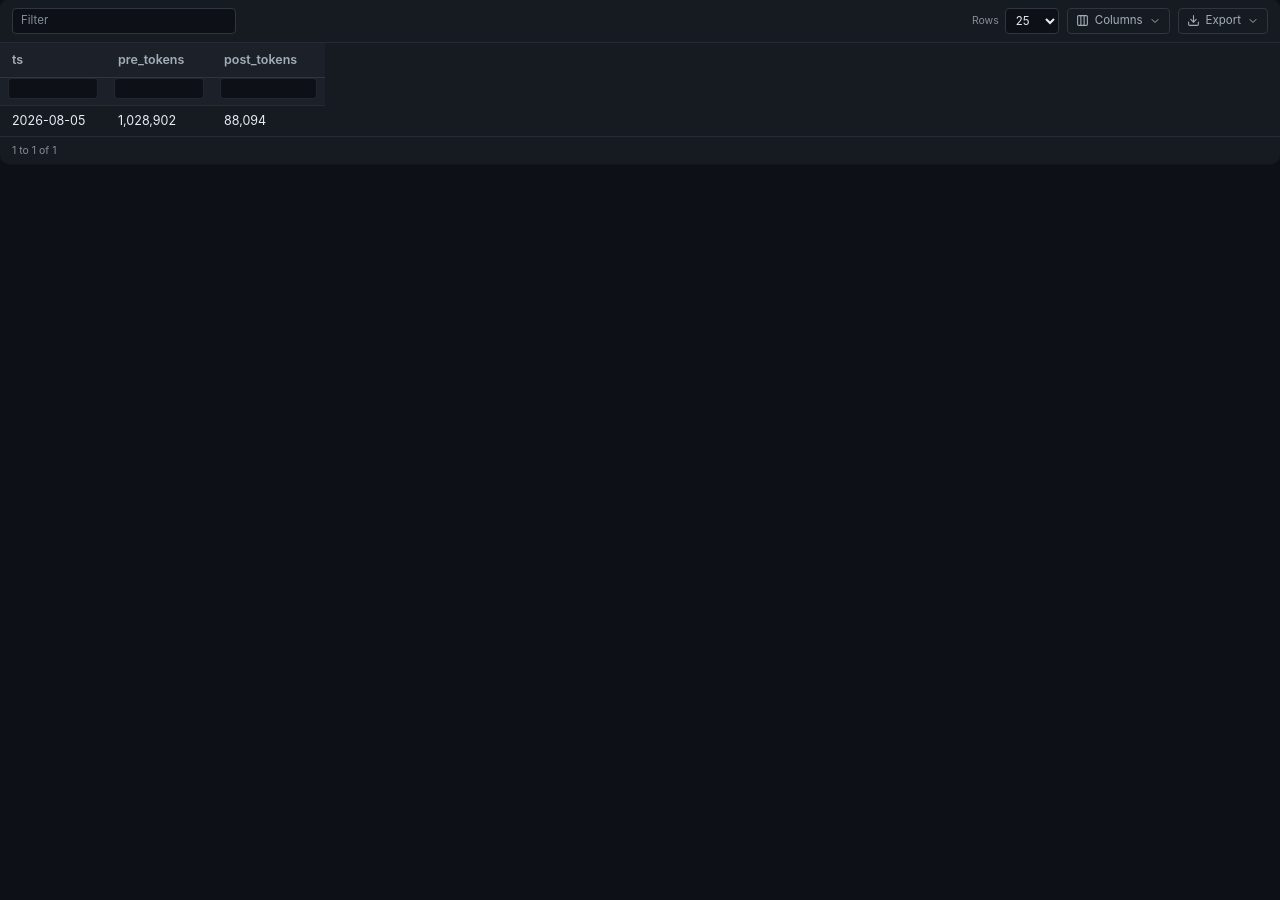
it: a compaction row › opens the summary that replaced the dropped context
This screenshot has width=1280, height=900.
Click the text "2026-08-05".
click(162, 120)  # box x1=0 y1=105 x2=325 y2=136
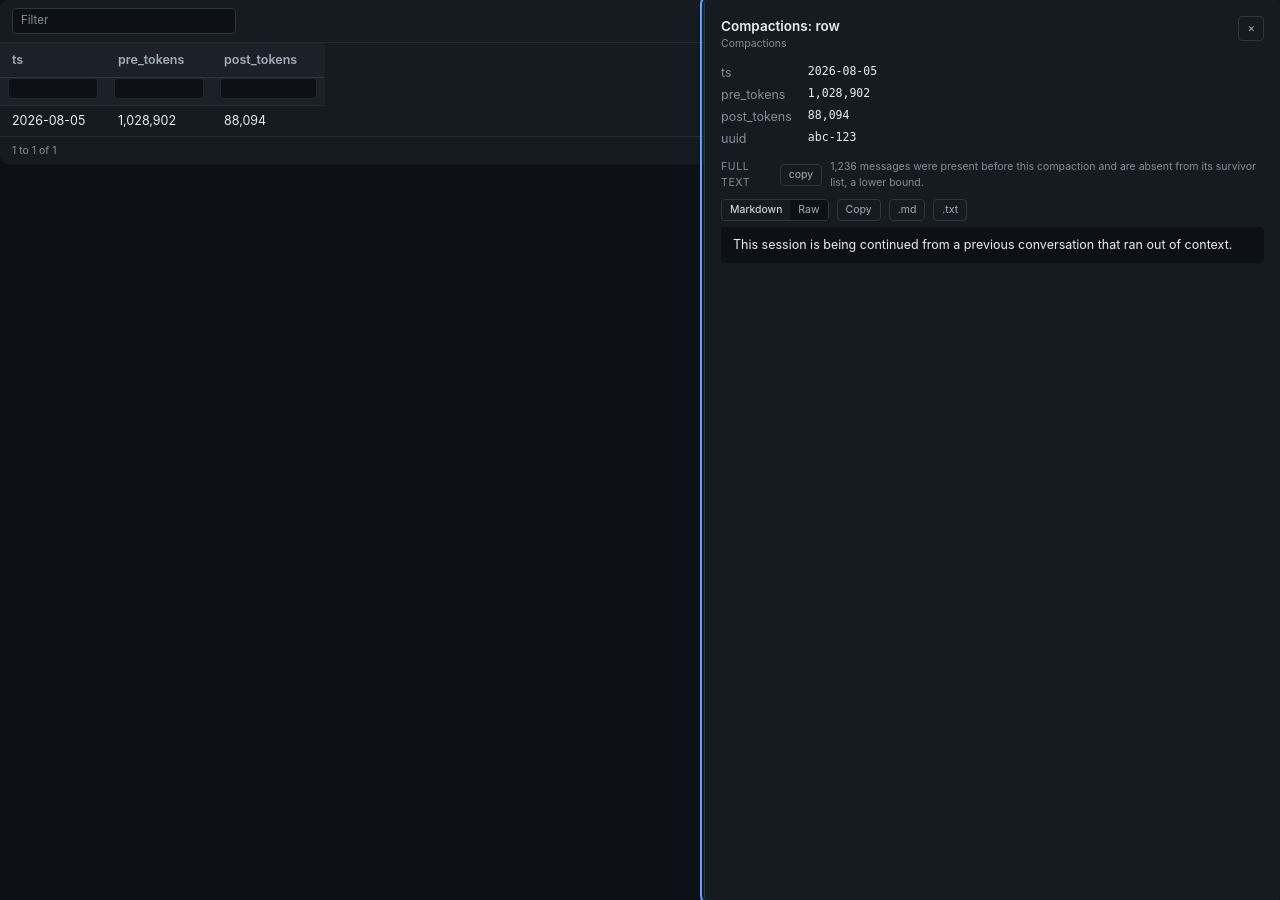
Expected: the text "This session is being continued from a p" is shown, x1=733 y1=237 x2=1232 y2=252
